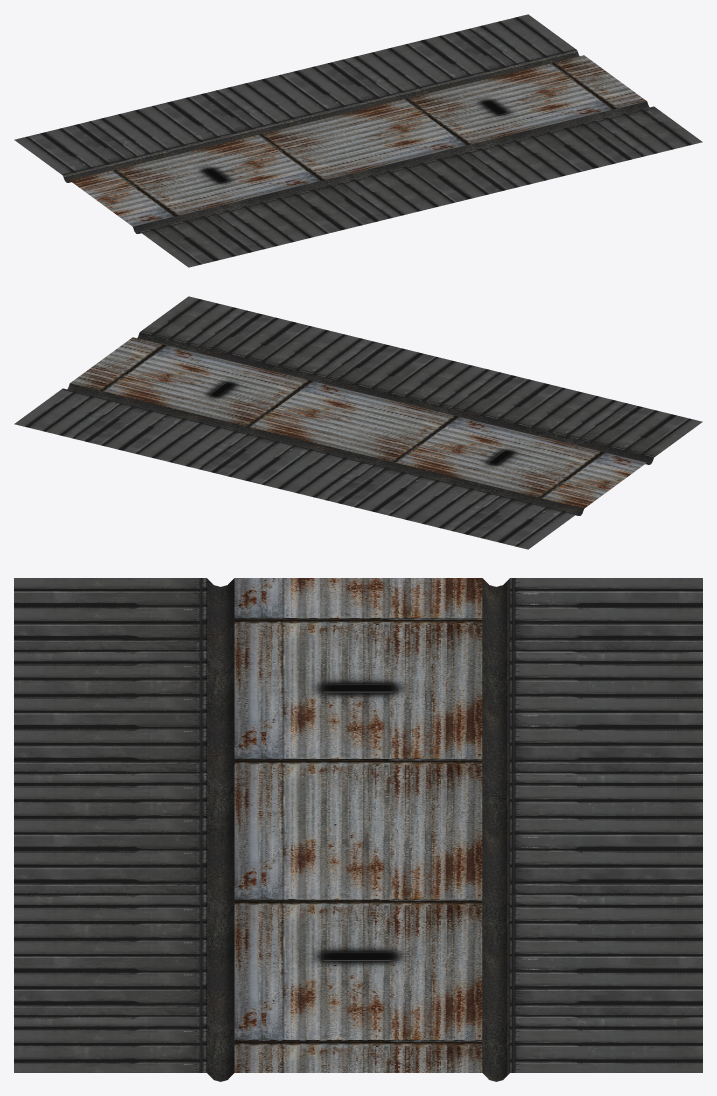
The model's file is Roof.fbx.
The picture shows the model from 3 angles, top to bottom: view 1: azimuth 30°, elevation 25°; view 2: azimuth 150°, elevation 25°; view 3: azimuth 270°, elevation 25°; orthographic projection. The views are drawn at different scales.
Visible parts, largest first — view 1: Cube_006; view 2: Cube_006; view 3: Cube_006.
Part boxes in pixels (left/top/right/bottom): Cube_006: left=14, top=14, right=702, bottom=267; Cube_006: left=14, top=296, right=702, bottom=549; Cube_006: left=14, top=578, right=702, bottom=1081.
Size of the model in its own units: 3.4 by 0.0315 by 2.
